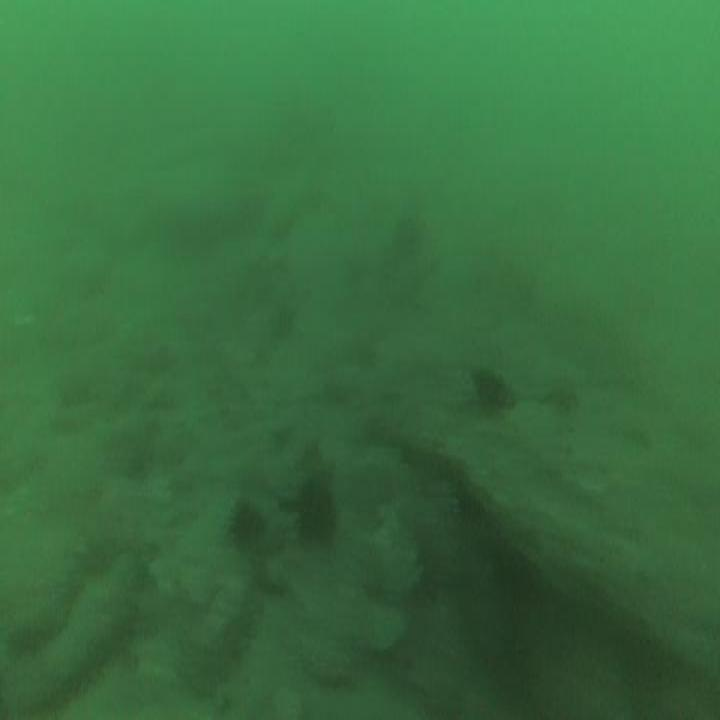echinus: (300, 479, 335, 540), (475, 366, 514, 414), (228, 500, 263, 546)
